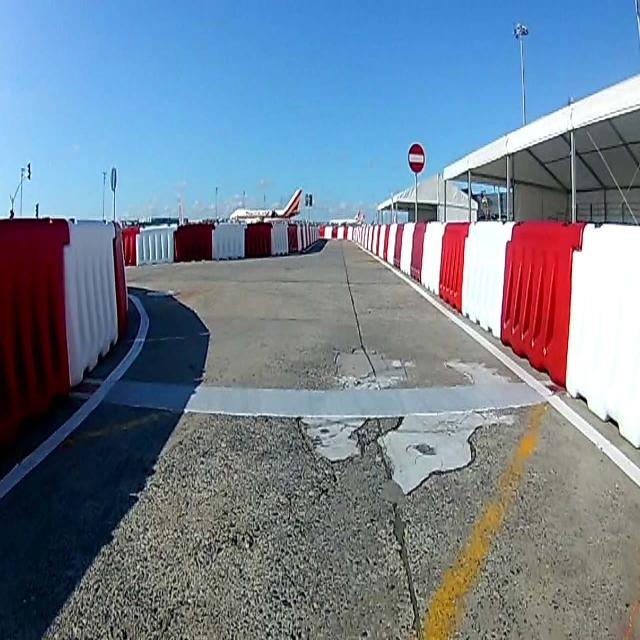girisyok: (408, 141, 427, 175)
